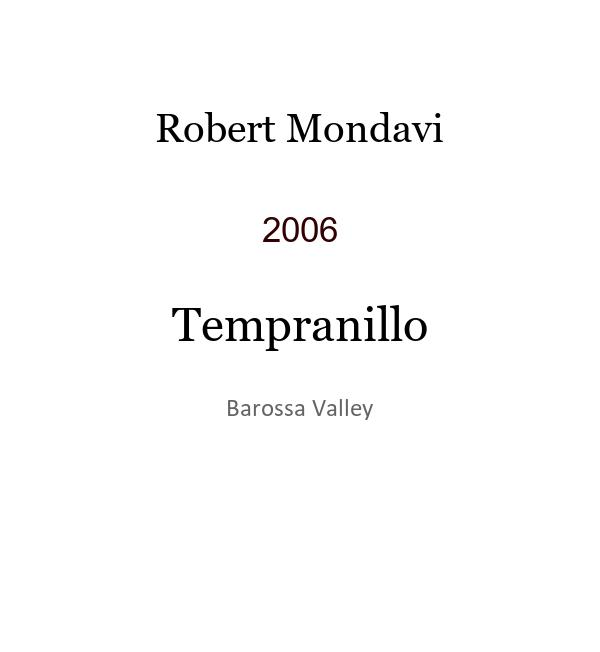brand: (155, 105, 444, 135)
region: (226, 397, 373, 418)
variety: (172, 297, 428, 343)
vintage: (262, 210, 338, 235)
